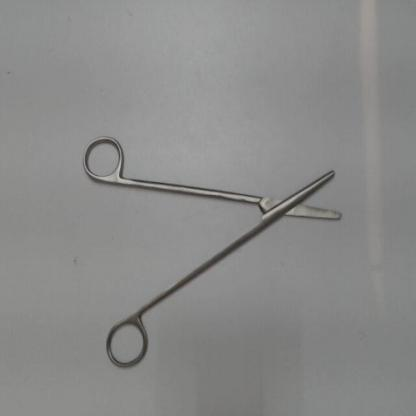9 Metzenbaum Scissors: (81, 133, 342, 377)
